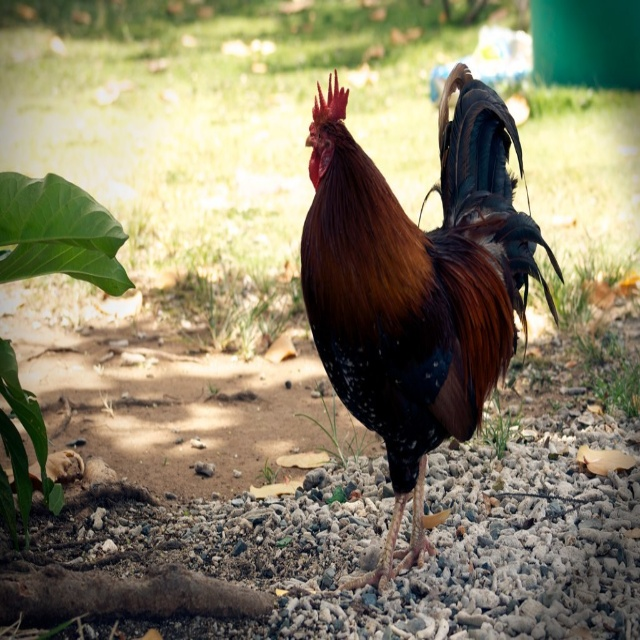Chicken: (299, 63, 565, 595)
